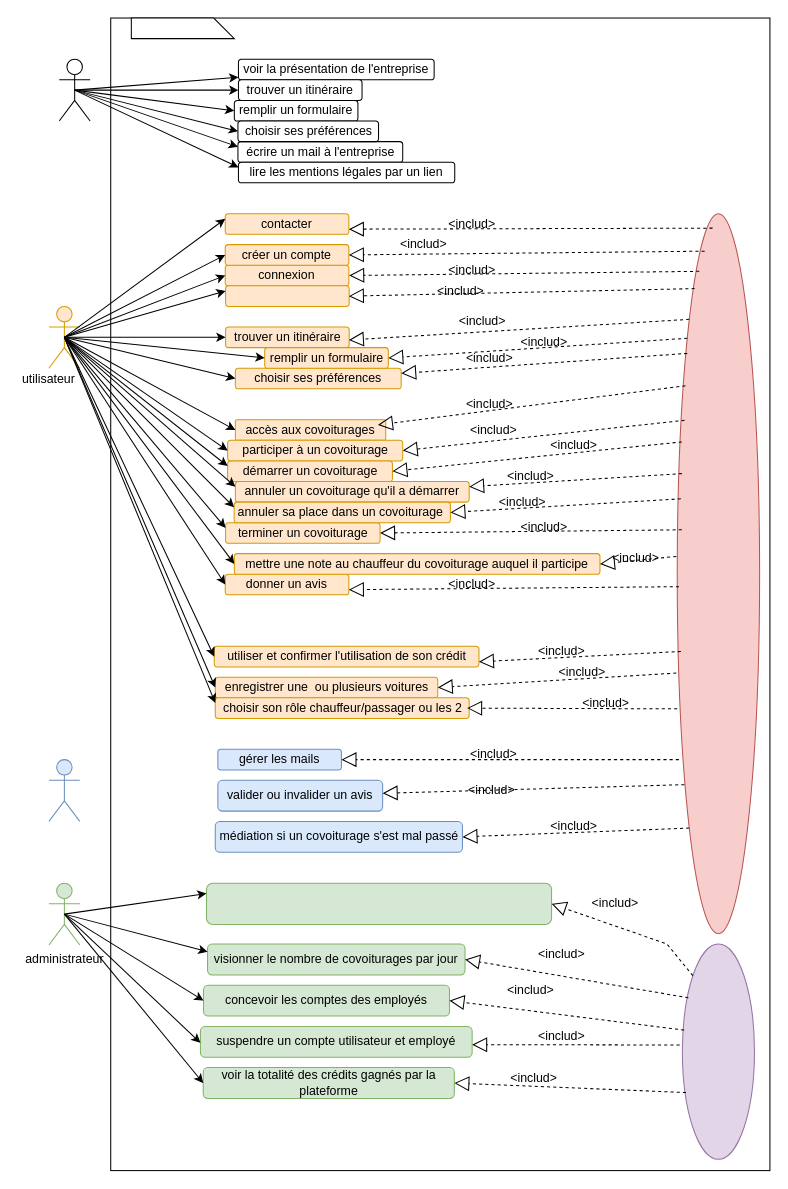
Some shapes in this 788 by 1189 pixel diagram are drawn without their labels. The shapes that lost their labels are listed below. From the top down, each one's centre as x and y in pixels, then its label:
[182,28]: application
[74,89]: visiteur
[287,295]: déconnexion
[718,573]: connection plateforme
[64,790]: employé
[378,903]: visionner le nombre de crédits gagnés en fonction des jours
[717,1051]: connection en amont
